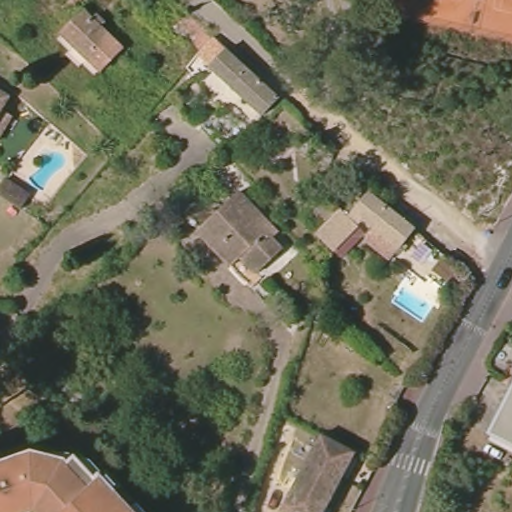pool: (25, 150, 69, 191), (393, 284, 435, 323)
